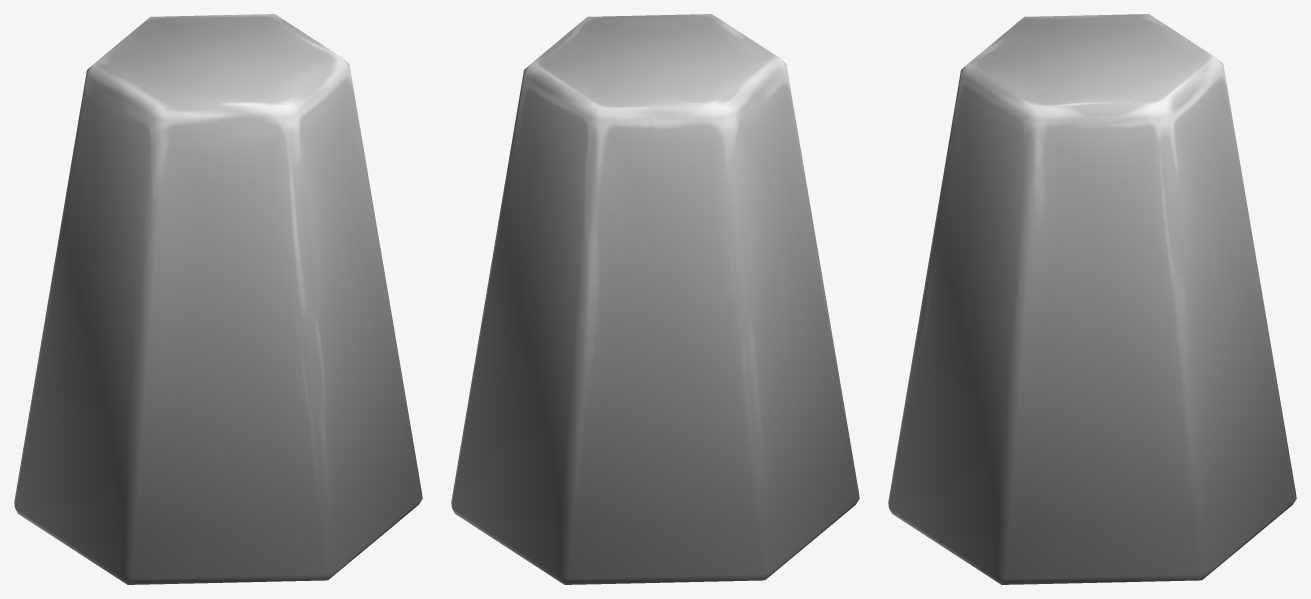
File: BatuBesar.fbx
3 views of the same model, side by side, from view 1: azimuth 30°, elevation 25°; view 2: azimuth 150°, elevation 25°; view 3: azimuth 270°, elevation 25° (orthographic).
Parts seen in each view (by area): view 1: Cylinder.002; view 2: Cylinder.002; view 3: Cylinder.002.
Boxes of the visible parts, x1,y1,x2,y2 form: Cylinder.002: (14, 14, 422, 584); Cylinder.002: (451, 14, 859, 584); Cylinder.002: (888, 14, 1296, 584).
Size of the model in its own units: 3.11 by 4.16 by 3.43.
